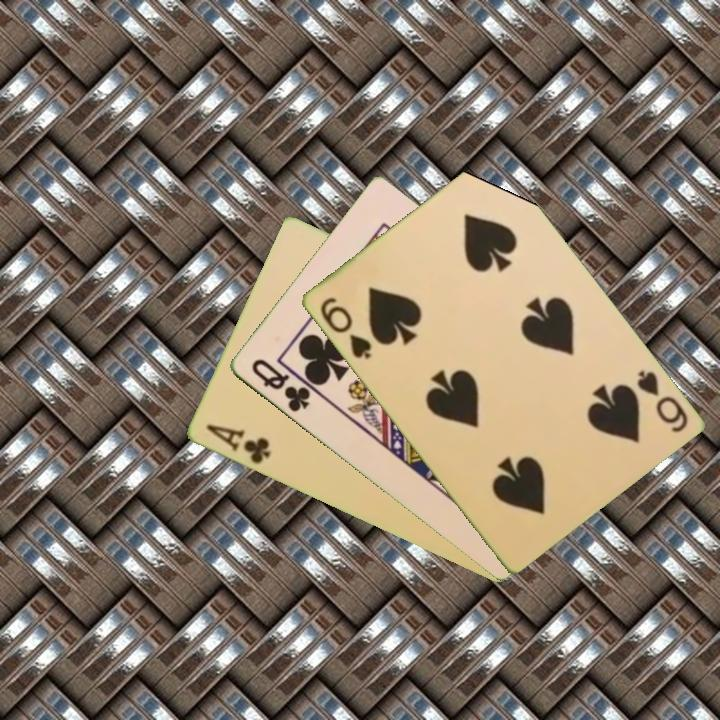6s: (632, 366, 691, 436), (315, 293, 374, 362)
Ac: (202, 420, 274, 467)
Qc: (247, 355, 313, 415)
